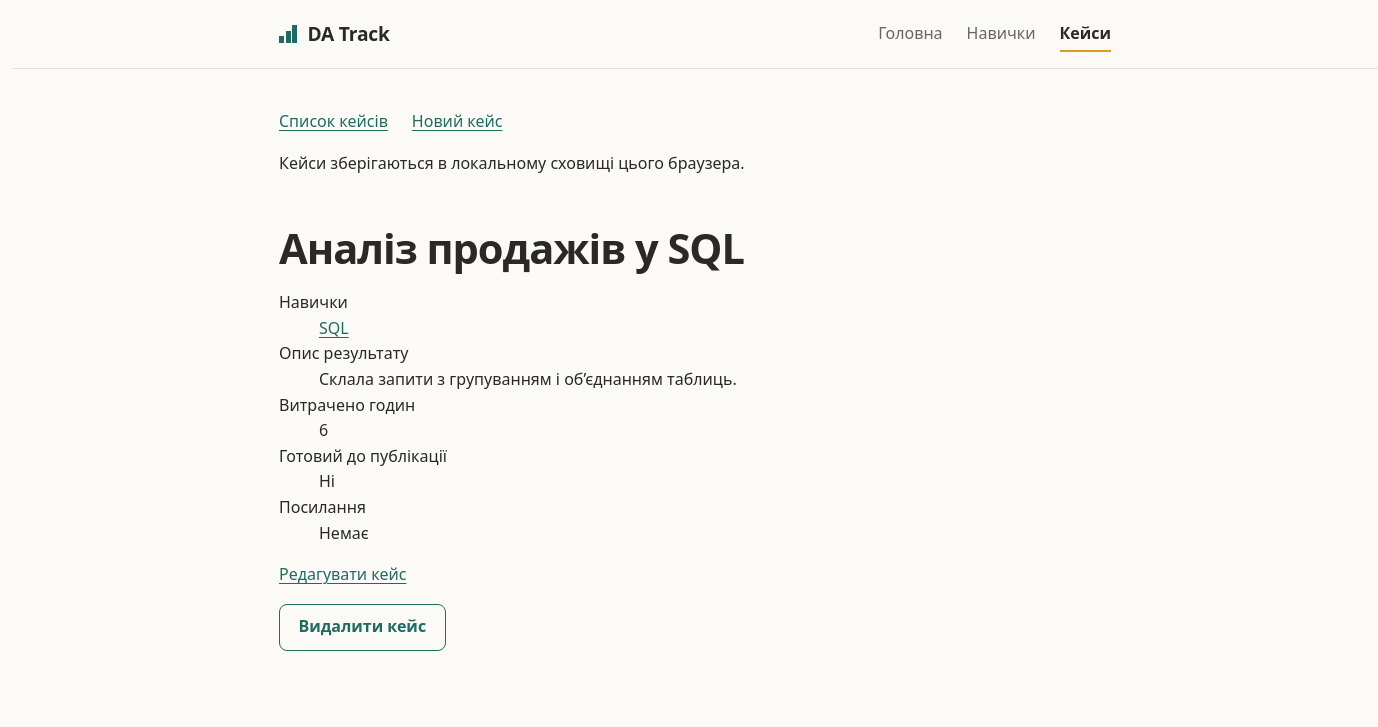
Test: підтверджене видалення прибирає потрібний кейс і повертає до списку
Check: the heading "Аналіз продажів у SQL" is shown, box [279,220,744,276]
Click the button "Видалити кейс" at (362, 627), box [279,604,446,651]
(page scrolled)
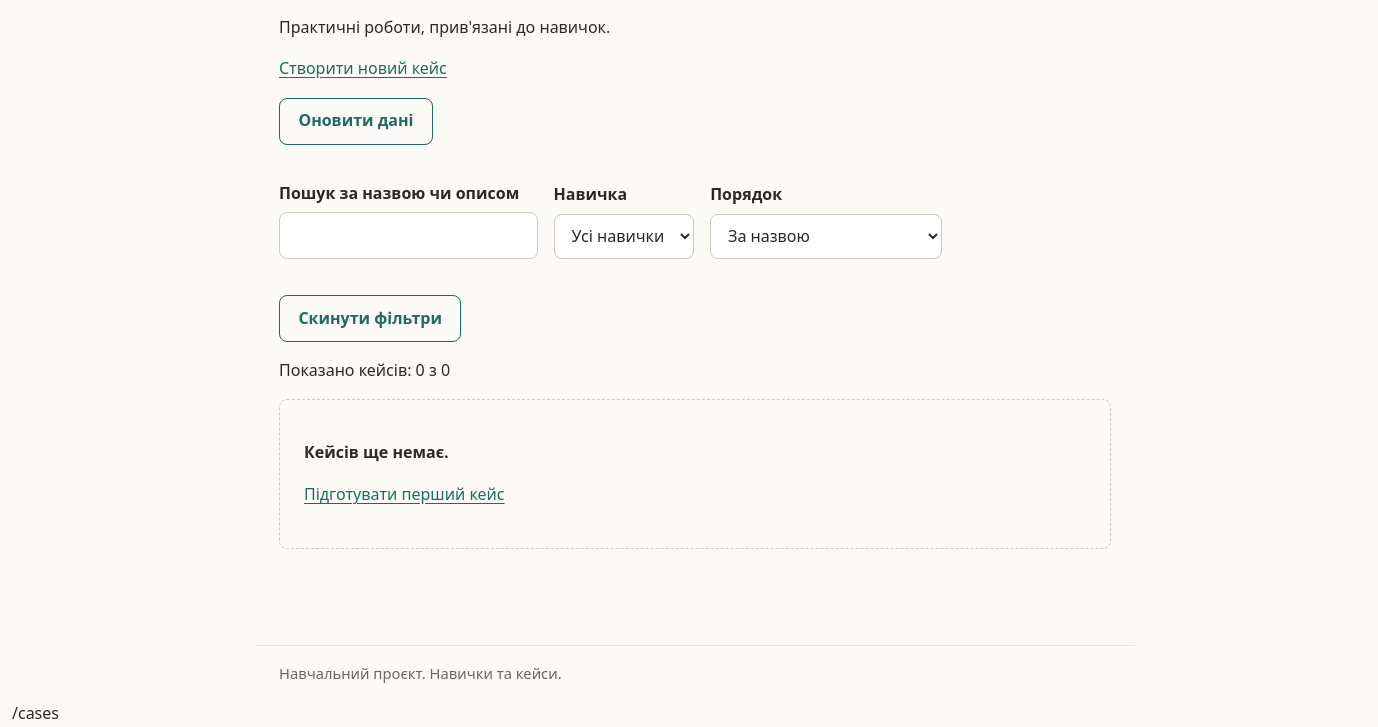
Check: the text "Кейсів ще немає." is shown, box [304,441,449,463]
Check: the text with test id "location" reads "/cases", box [12,702,59,724]
